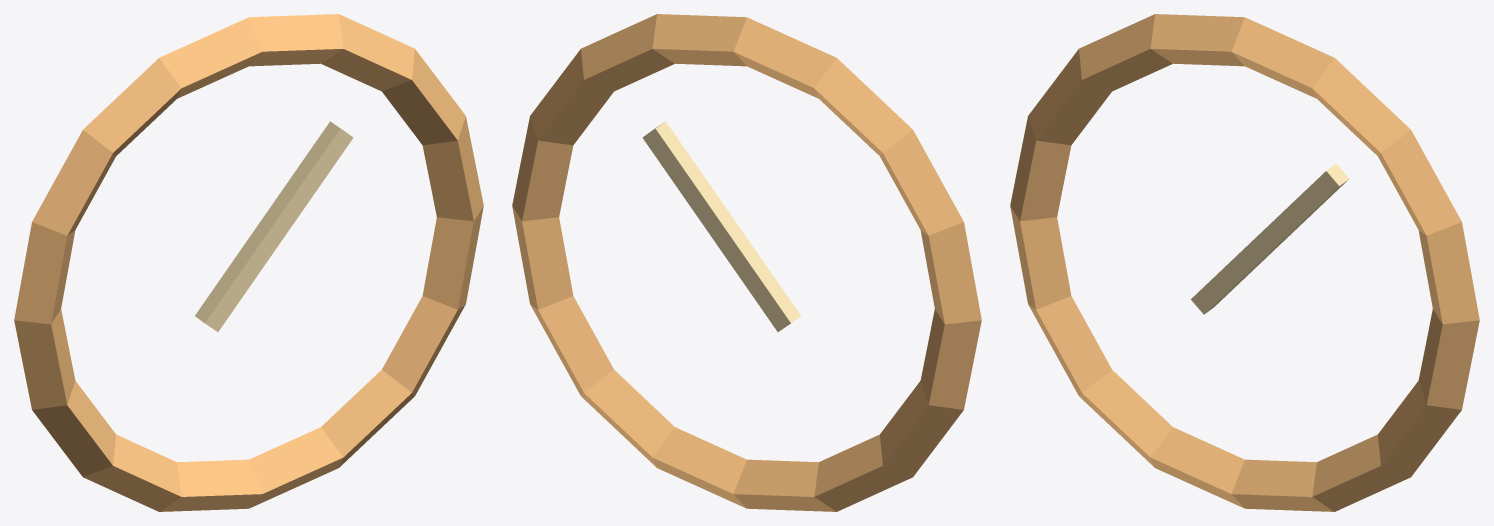
The model's file is obd-node.glb.
3 views of the same model, side by side, from view 1: azimuth 30°, elevation 25°; view 2: azimuth 150°, elevation 25°; view 3: azimuth 330°, elevation 25° (orthographic).
Parts seen in each view (by area): view 1: ring, needle; view 2: ring, needle; view 3: ring, needle.
Part boxes in pixels (x1=…): ring: x1=14, y1=14, x2=483, y2=511; needle: x1=195, y1=121, x2=353, y2=331; ring: x1=512, y1=14, x2=981, y2=511; needle: x1=642, y1=121, x2=800, y2=331; ring: x1=1010, y1=14, x2=1479, y2=511; needle: x1=1191, y1=163, x2=1349, y2=314.
Bounding box in the file's own units: 1.6 × 1.6 × 0.16.
